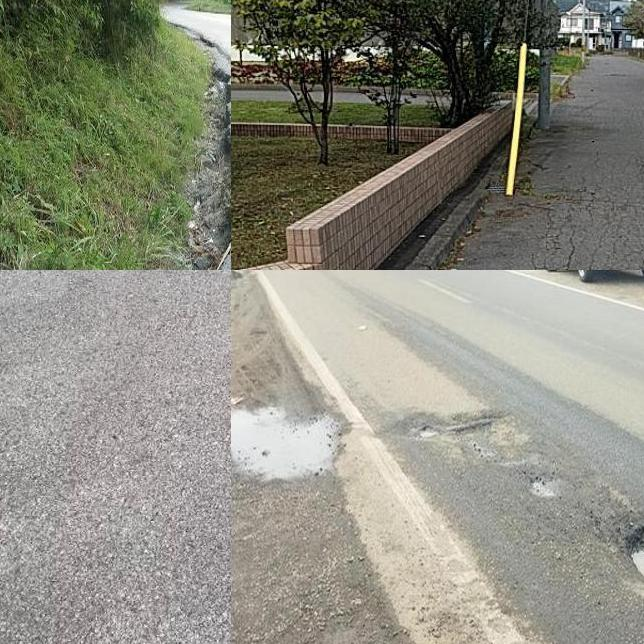Pinggir: (156, 50, 231, 270)
Retak Buaya: (499, 185, 641, 270)
